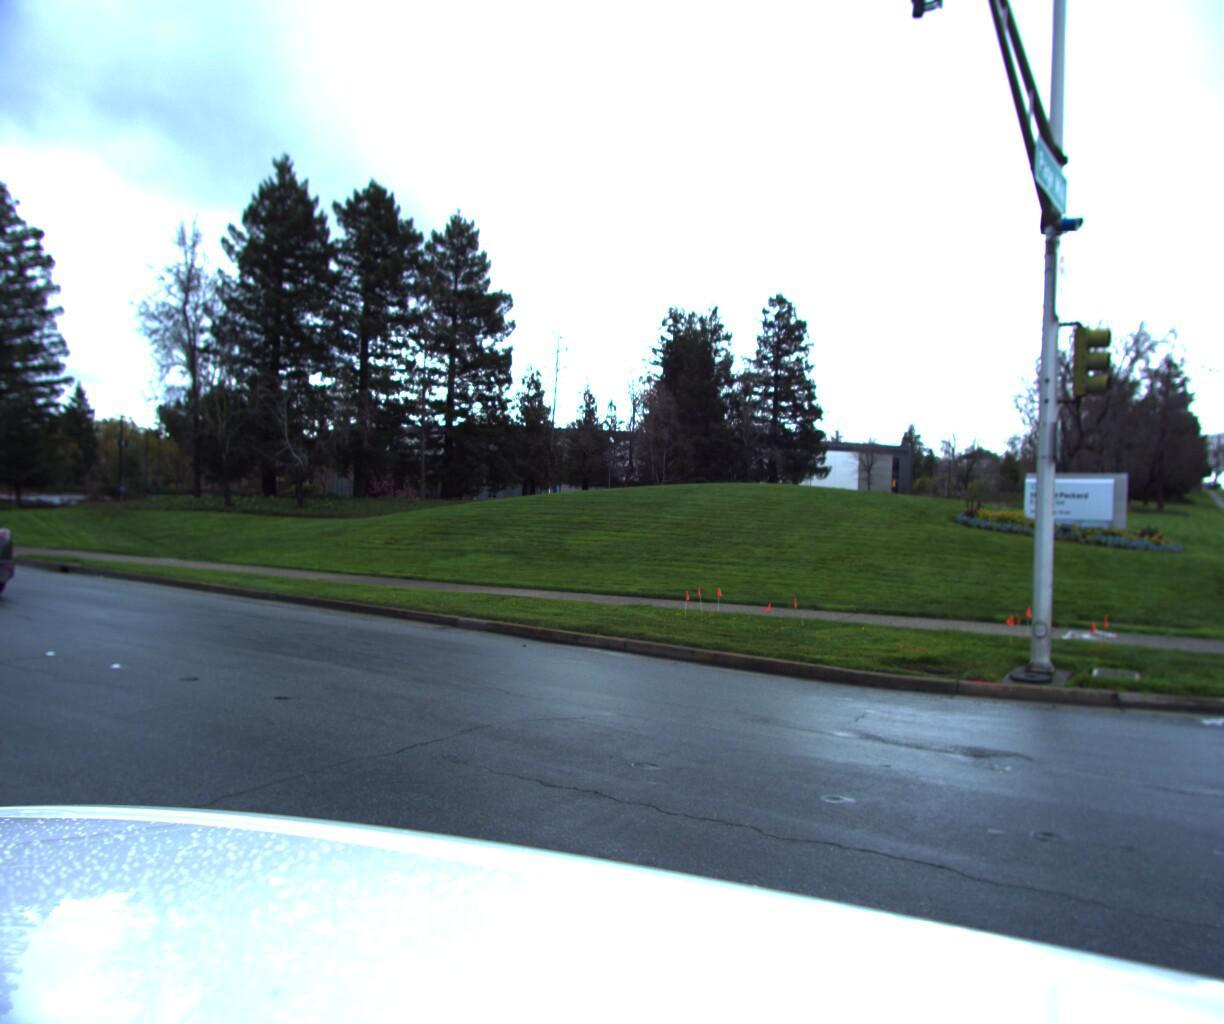car: (0, 489, 18, 612)
